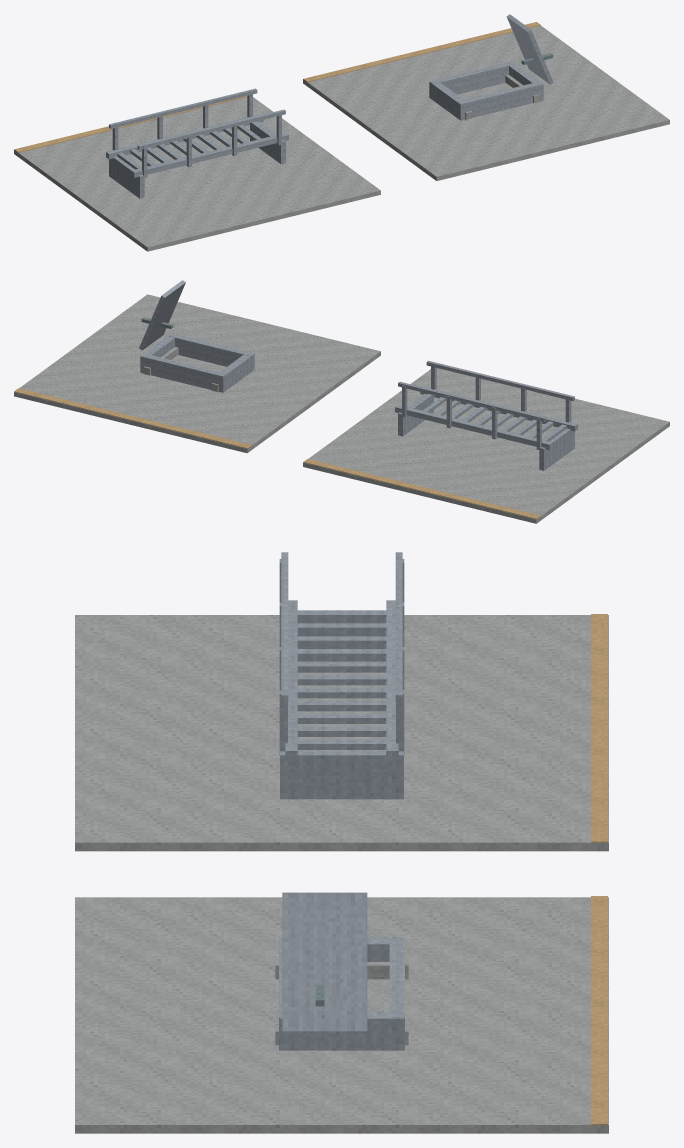
File: level_blockout_kit_wld_18_p07.glb
3 views of the same model, one above another, from view 1: azimuth 30°, elevation 25°; view 2: azimuth 150°, elevation 25°; view 3: azimuth 270°, elevation 25° (orthographic). The views are drawn at different scales.
Visible parts, largest first — view 1: level_blockout_kit_wld_18_p07; view 2: level_blockout_kit_wld_18_p07; view 3: level_blockout_kit_wld_18_p07.
Boxes of the visible parts, <box> form: level_blockout_kit_wld_18_p07: <box>14,14,669,251</box>; level_blockout_kit_wld_18_p07: <box>14,280,669,523</box>; level_blockout_kit_wld_18_p07: <box>75,552,608,1133</box>.
Bounding box in the file's own units: 12.65 × 1.8 × 5.6.
Materials: 4 (4 with a texture image).
